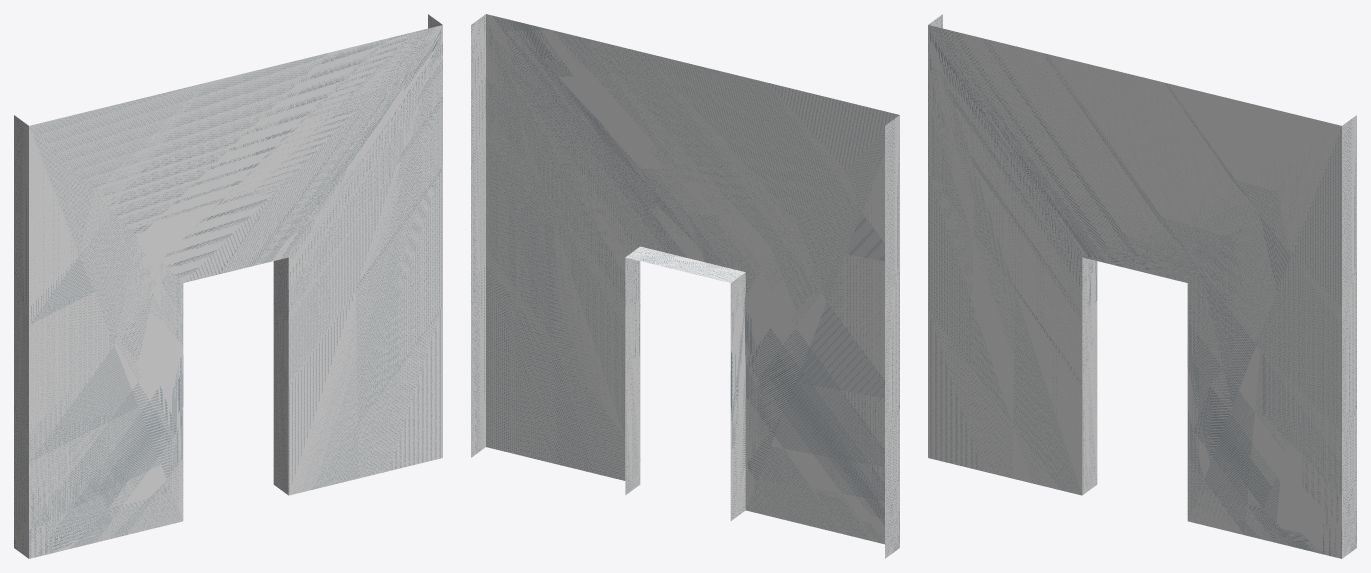
The model's file is BlockWall_os_[400x400x025]_102x220_doorway.dae.
The picture shows the model from 3 angles, left to right: view 1: azimuth 30°, elevation 25°; view 2: azimuth 150°, elevation 25°; view 3: azimuth 330°, elevation 25°; orthographic projection.
Parts seen in each view (by area): view 1: group_0; view 2: group_0; view 3: group_0.
Boxes of the visible parts, bbox=[...] form: group_0: bbox=[14, 14, 442, 558]; group_0: bbox=[471, 14, 899, 558]; group_0: bbox=[928, 14, 1356, 558].
Bounding box in the file's own units: 157 × 9.84 × 157.
